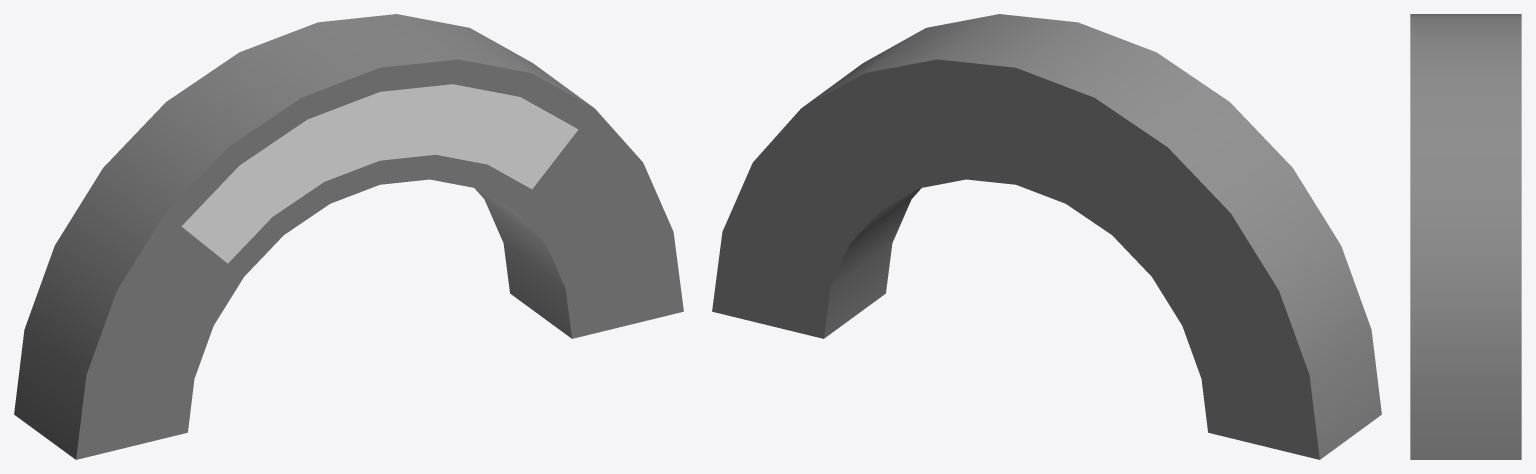
File: overheadRound.glb
3 views of the same model, side by side, from view 1: azimuth 30°, elevation 25°; view 2: azimuth 150°, elevation 25°; view 3: azimuth 270°, elevation 25° (orthographic). The views are drawn at different scales.
Visible parts, largest first — view 1: overheadRound(Clone); view 2: overheadRound(Clone); view 3: overheadRound(Clone).
Part boxes in pixels (x1,y1,x2,y2): overheadRound(Clone): (14,14,683,459); overheadRound(Clone): (712,14,1381,459); overheadRound(Clone): (1410,14,1521,459).
Size of the model in its own units: 1.87 by 0.9334 by 0.33.
1 material, 1 textured.
